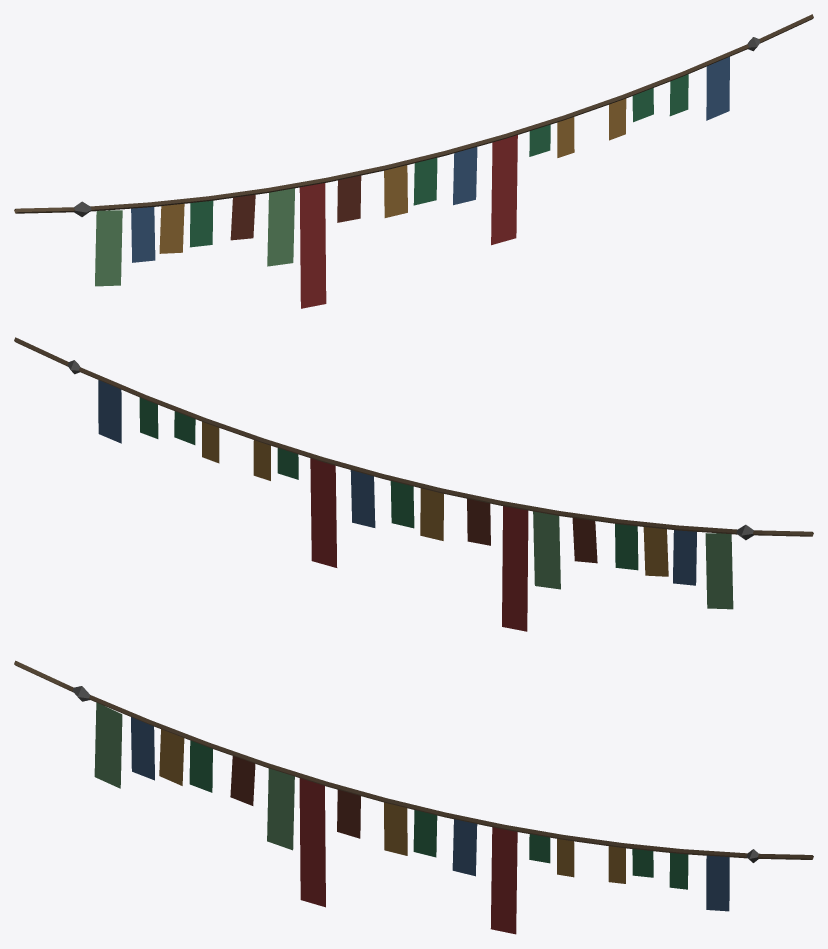
The model's file is ZLP_Build_F_19.FBX.
3 renders of one model, top to bottom at view 1: azimuth 30°, elevation 25°; view 2: azimuth 150°, elevation 25°; view 3: azimuth 330°, elevation 25°, orthographic.
Parts seen in each view (by area): view 1: ZLP_Build_F_19; view 2: ZLP_Build_F_19; view 3: ZLP_Build_F_19.
Boxes of the visible parts, x1,y1,x2,y2 form: ZLP_Build_F_19: (14, 14, 813, 308); ZLP_Build_F_19: (14, 337, 813, 631); ZLP_Build_F_19: (14, 660, 813, 934).
Bounding box in the file's own units: 845 × 173 × 16.16.
